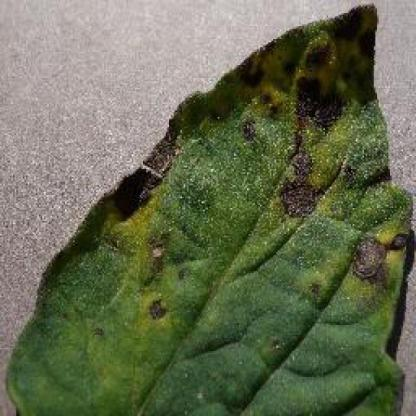Tomato_Blight: (9, 5, 409, 416), (364, 232, 368, 235)
